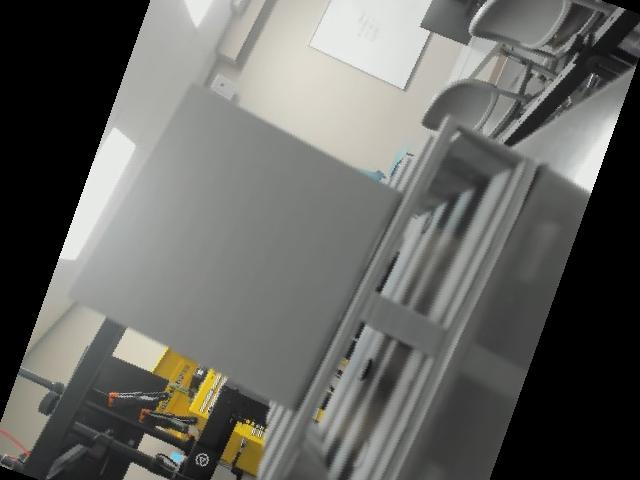grey pallet: (63, 72, 548, 480)
